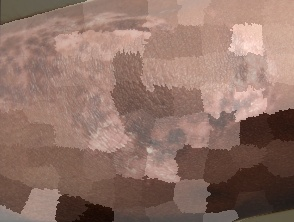vitiligo: (0, 0, 288, 183)
